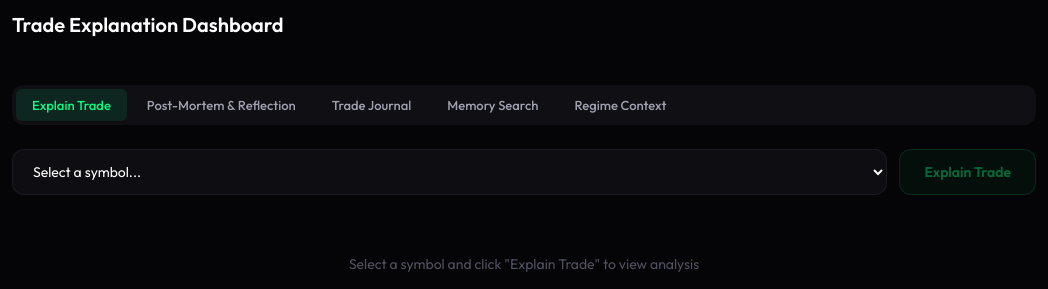
Test case: TradeIntelligence - Scenario 4: Error & Edge Cases › Shows loading state while explaining
Select "RELIANCE" in the dropdown at point(450, 172), box [12,149,887,195]
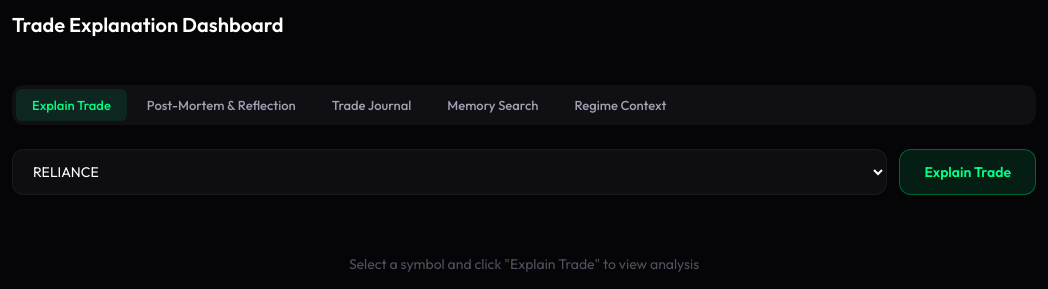
Click the 2nd button "Explain Trade" at point(968, 172), box [899,149,1036,195]
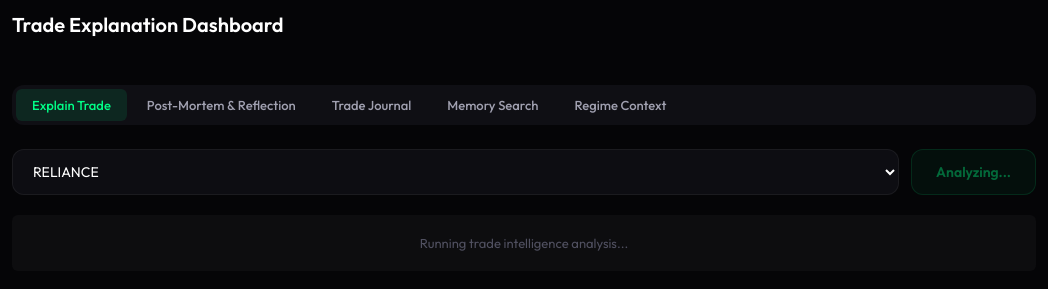
Expected: the text "Running trade intelligence analysis..." is shown, [12,215,1036,271]
